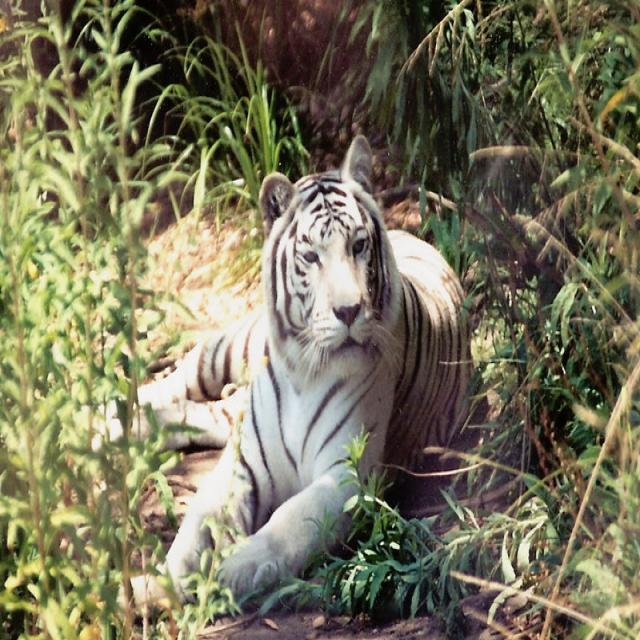Tiger: (93, 132, 474, 606)
